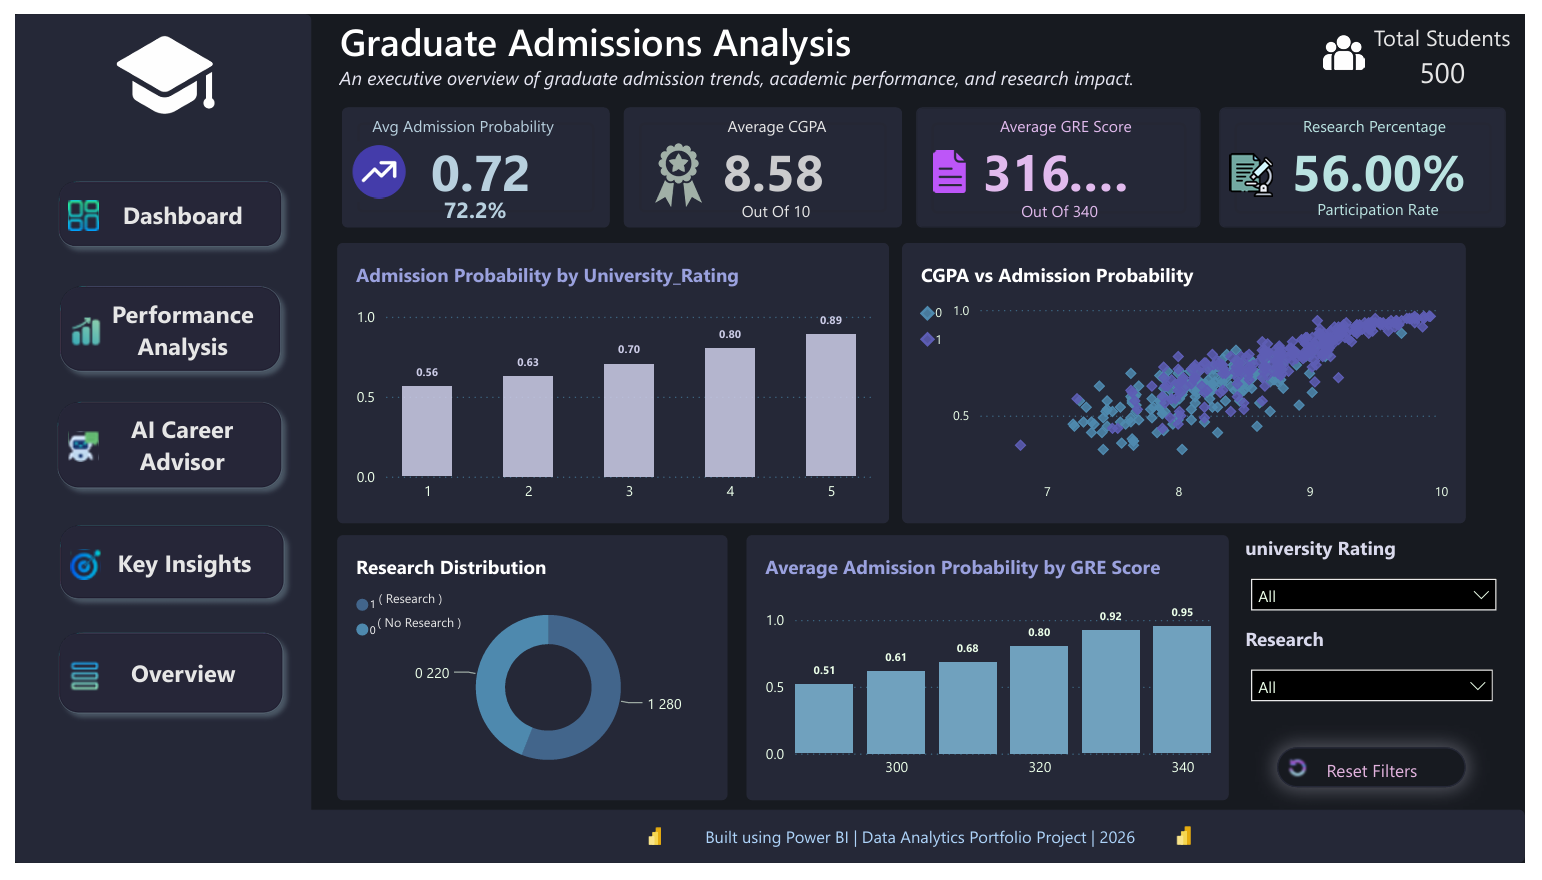

The dashboard page shown, as its layout file describes it:
{"tool":"powerbi","page":{"name":"Dashboard ","canvas":[1280,720],"ordinal":1},"visuals":[{"type":"group","id":"g1","title":"Group 8","box":[-2.2,0,252.9,720],"z":0},{"type":"shape","box":[-2.2,0,252.9,720],"z":0,"group":"g1"},{"type":"cardVisual","fields":{"Data":["Admission_Predict_Ver1 1.Average Admission Probability"]},"box":[277,79.1,227,101.7],"z":0,"group":"g6"},{"type":"group","id":"g2","title":"Group 1","box":[1043,519.3,215.3,94],"z":0,"group":"g7"},{"type":"slicer","title":"Research","fields":{"Values":["Admission_Predict_Ver1 1.Has_Research"]},"box":[1043,519.3,215.3,94],"z":0,"group":"g2"},{"type":"shape","box":[237.5,675.1,1042.2,44.4],"z":0,"group":"g5"},{"type":"image","box":[284.8,108.4,47.6,50.3],"z":11,"group":"g6"},{"type":"textbox","box":[275,0,1005,81.7],"z":1000},{"type":"cardVisual","fields":{"Data":["Admission_Predict_Ver1 1.Average CGPA"]},"box":[515.6,79,236.2,102.2],"z":1000,"group":"g4"},{"type":"group","id":"g3","title":"Group 7","box":[27.2,132.8,210,468.6],"z":1000,"group":"g1"},{"type":"textbox","box":[1140,6.7,140,85],"z":2000},{"type":"cardVisual","fields":{"Data":["Admission_Predict_Ver1 1.Average GRE Score"]},"box":[763.9,79.1,240.7,102.2],"z":2000,"group":"g4"},{"type":"image","box":[1071.7,0,108.3,65],"z":3000},{"type":"group","id":"g4","title":"Group 2","box":[271,79,992.5,588.3],"z":4000},{"type":"image","box":[763.9,93.6,65.6,79.7],"z":4000,"group":"g4"},{"type":"group","id":"g5","title":"Group 3","box":[237.5,673.8,1042.5,46.2],"z":5000},{"type":"image","box":[54.3,4.3,145.7,110],"z":6000},{"type":"cardVisual","fields":{"Data":["Admission_Predict_Ver1 1.Research Percentage"]},"box":[1020.5,79.1,243,102.2],"z":7000,"group":"g4"},{"type":"group","id":"g6","title":"Group 4","box":[277,79.1,227,101.7],"z":8000,"group":"g4"},{"type":"actionButton","box":[28,132.8,206.7,73.3],"z":9000,"group":"g3"},{"type":"clusteredColumnChart","title":"Admission Probability by University_Rating","fields":{"Category":["Admission_Predict_Ver1 1.University_Rating"],"Y":["Admission_Predict_Ver1 1.Average Admission Probability"]},"box":[273.3,193.6,467.4,238],"z":9000,"group":"g4"},{"type":"scatterChart","title":"CGPA vs Admission Probability","fields":{"Category":["Admission_Predict_Ver1 1.Student_ID"],"X":["Sum(Admission_Predict_Ver1 1.CGPA)"],"Series":["Admission_Predict_Ver1 1.Has_Research"],"Y":["Admission_Predict_Ver1 1.Average Admission Probability"]},"box":[751.8,193.6,478.5,238],"z":10000,"group":"g4"},{"type":"actionButton","box":[28.9,221.8,205.8,89.8],"z":10000,"group":"g3"},{"type":"actionButton","box":[27.2,319.8,207.5,90.6],"z":11000,"group":"g3"},{"type":"donutChart","title":"Research Distribution","fields":{"Category":["Admission_Predict_Ver1 1.Has_Research"],"Y":["Count(Admission_Predict_Ver1 1.Student_ID)"]},"box":[273.3,442.1,330.9,225.2],"z":11000,"group":"g4"},{"type":"group","id":"g7","title":"Group 5","box":[1043,519.3,215.3,94],"z":11000,"group":"g8"},{"type":"actionButton","box":[28.9,424.4,208.3,80.7],"z":12000,"group":"g3"},{"type":"clusteredColumnChart","title":"Average Admission Probability by GRE Score","fields":{"Y":["Avg(Admission_Predict_Ver1 1.Admission_Probability)"],"Category":["Admission_Predict_Ver1 1.GRE_Score (bins)"]},"box":[620.2,442.1,408.4,225.2],"z":12000,"group":"g4"},{"type":"actionButton","box":[28.2,515.6,208.3,85.8],"z":13000,"group":"g3"},{"type":"textbox","box":[584.6,688.3,388.4,21.5],"z":13000,"group":"g5"},{"type":"textbox","box":[299.5,86.3,204.5,39.9],"z":14000,"group":"g4"},{"type":"image","box":[508.6,674.5,67.2,45.6],"z":14000,"group":"g5"},{"type":"image","box":[956.2,673.8,67.9,45.7],"z":15000,"group":"g5"},{"type":"textbox","box":[1091.7,86.3,146.7,50.3],"z":17000,"group":"g4"},{"type":"textbox","box":[603.9,86.3,147.8,39.9],"z":19000,"group":"g4"},{"type":"textbox","box":[834.7,86.5,277,50.4],"z":20000,"group":"g4"},{"type":"cardVisual","fields":{"Data":["Admission_Predict_Ver1 1.Average Admission Probability"]},"box":[271,128.9,237.6,73],"z":22000,"group":"g4"},{"type":"textbox","box":[616.2,157.6,147.8,39.9],"z":23000,"group":"g4"},{"type":"textbox","box":[853,158.1,115.3,50.4],"z":25000,"group":"g4"},{"type":"slicer","title":" university Rating","fields":{"Values":["Admission_Predict_Ver1 1.University_Rating"]},"box":[1043.3,442.1,217.7,69.7],"z":25000,"group":"g8"},{"type":"textbox","box":[1104,155.5,122.2,52.4],"z":26000,"group":"g4"},{"type":"actionButton","box":[1070.4,622,159.9,33.7],"z":26000,"group":"g8"},{"type":"image","box":[1005.1,103.1,86.7,67.1],"z":28000,"group":"g4"},{"type":"group","id":"g8","title":"Group 6","box":[1043,442.1,218,213.6],"z":29000,"group":"g4"},{"type":"image","box":[516.1,84.2,93.3,104.9],"z":30000,"group":"g4"},{"type":"textbox","box":[308.2,485.6,74.9,20],"z":31000,"group":"g4"},{"type":"textbox","box":[307.4,505.6,82.5,20.7],"z":32000,"group":"g4"}]}

Visuals, with their boxes in screenshot pixels (x1, y1, x2, y2), scaled from the page's 1280x720 canvas onto the 1542x880 screenshot:
"Group 8" group: x1=0, y1=0, x2=302, y2=879
shape: x1=0, y1=0, x2=302, y2=879
cardVisual - Admission_Predict_Ver1 1.Average Admission Probability: x1=334, y1=97, x2=607, y2=221
"Group 1" group: x1=1256, y1=635, x2=1516, y2=750
"Research" slicer: x1=1256, y1=635, x2=1516, y2=750
shape: x1=286, y1=825, x2=1541, y2=879
image: x1=343, y1=132, x2=400, y2=194
textbox: x1=331, y1=0, x2=1541, y2=100
cardVisual - Admission_Predict_Ver1 1.Average CGPA: x1=621, y1=97, x2=906, y2=221
"Group 7" group: x1=33, y1=162, x2=286, y2=735
textbox: x1=1373, y1=8, x2=1541, y2=112
cardVisual - Admission_Predict_Ver1 1.Average GRE Score: x1=920, y1=97, x2=1210, y2=222
image: x1=1291, y1=0, x2=1422, y2=79
"Group 2" group: x1=326, y1=97, x2=1522, y2=816
image: x1=920, y1=114, x2=999, y2=212
"Group 3" group: x1=286, y1=824, x2=1541, y2=879
image: x1=65, y1=5, x2=241, y2=140
cardVisual - Admission_Predict_Ver1 1.Research Percentage: x1=1229, y1=97, x2=1522, y2=222
"Group 4" group: x1=334, y1=97, x2=607, y2=221
actionButton: x1=34, y1=162, x2=283, y2=252
"Admission Probability by University_Rating" clusteredColumnChart: x1=329, y1=237, x2=892, y2=528
"CGPA vs Admission Probability" scatterChart: x1=906, y1=237, x2=1482, y2=528
actionButton: x1=35, y1=271, x2=283, y2=381
actionButton: x1=33, y1=391, x2=283, y2=502
"Research Distribution" donutChart: x1=329, y1=540, x2=728, y2=816
"Group 5" group: x1=1256, y1=635, x2=1516, y2=750
actionButton: x1=35, y1=519, x2=286, y2=617
"Average Admission Probability by GRE Score" clusteredColumnChart: x1=747, y1=540, x2=1239, y2=816
actionButton: x1=34, y1=630, x2=285, y2=735
textbox: x1=704, y1=841, x2=1172, y2=868
textbox: x1=361, y1=105, x2=607, y2=154
image: x1=613, y1=824, x2=694, y2=879
image: x1=1152, y1=824, x2=1234, y2=879
textbox: x1=1315, y1=105, x2=1492, y2=167
textbox: x1=728, y1=105, x2=906, y2=154
textbox: x1=1006, y1=106, x2=1339, y2=167
cardVisual - Admission_Predict_Ver1 1.Average Admission Probability: x1=326, y1=158, x2=613, y2=247
textbox: x1=742, y1=193, x2=920, y2=241
textbox: x1=1028, y1=193, x2=1166, y2=255
" university Rating" slicer: x1=1257, y1=540, x2=1519, y2=626
textbox: x1=1330, y1=190, x2=1477, y2=254
actionButton: x1=1289, y1=760, x2=1482, y2=801
image: x1=1211, y1=126, x2=1315, y2=208
"Group 6" group: x1=1256, y1=540, x2=1519, y2=801
image: x1=622, y1=103, x2=734, y2=231
textbox: x1=371, y1=594, x2=462, y2=618
textbox: x1=370, y1=618, x2=470, y2=643
